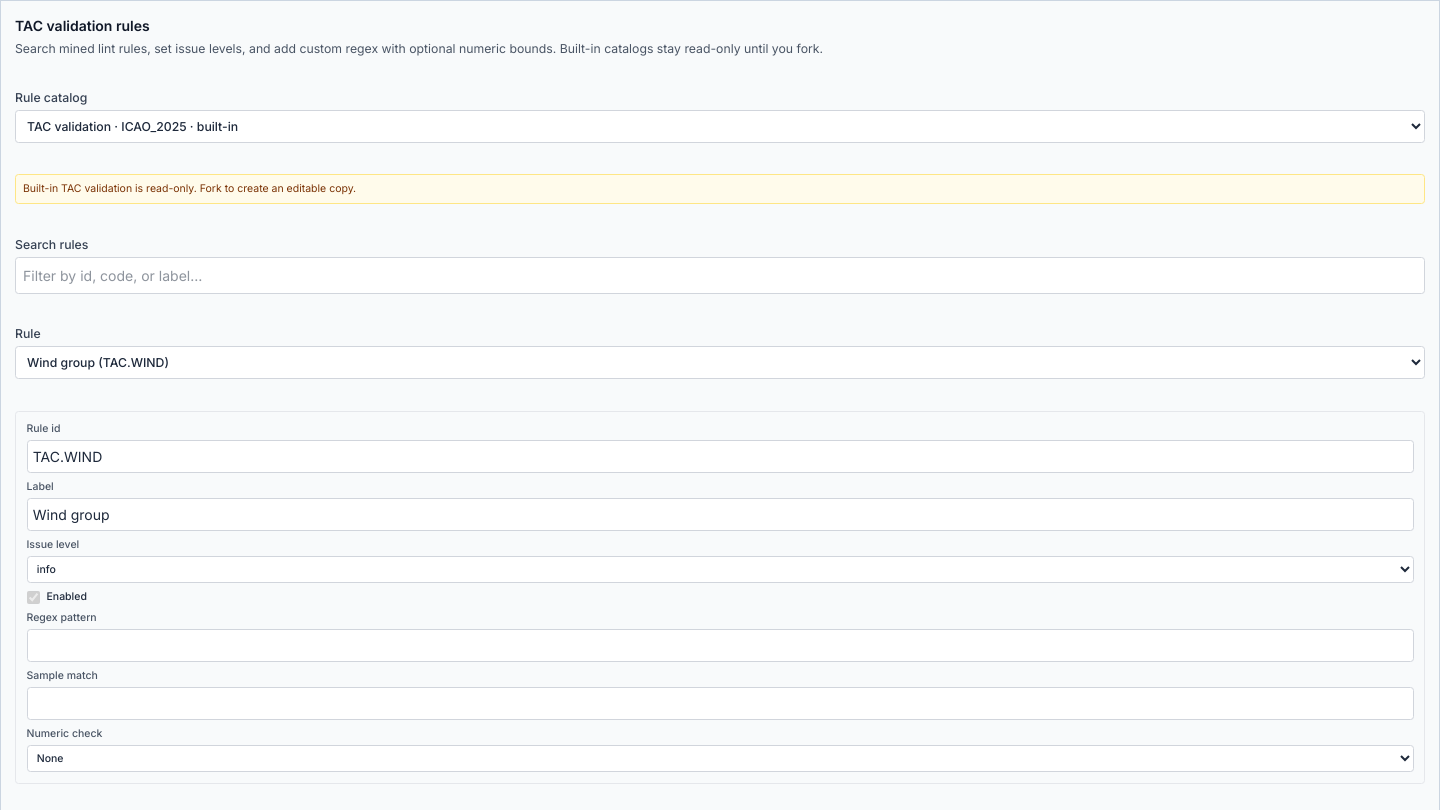
TacValidationRulesPanel › lists searchable TAC rules with clear identity (TC-EVWB-TAC-001)
In the search field with test id "tac-validation-rules-search": point(720, 275) [15, 256, 1425, 294], type "vis"
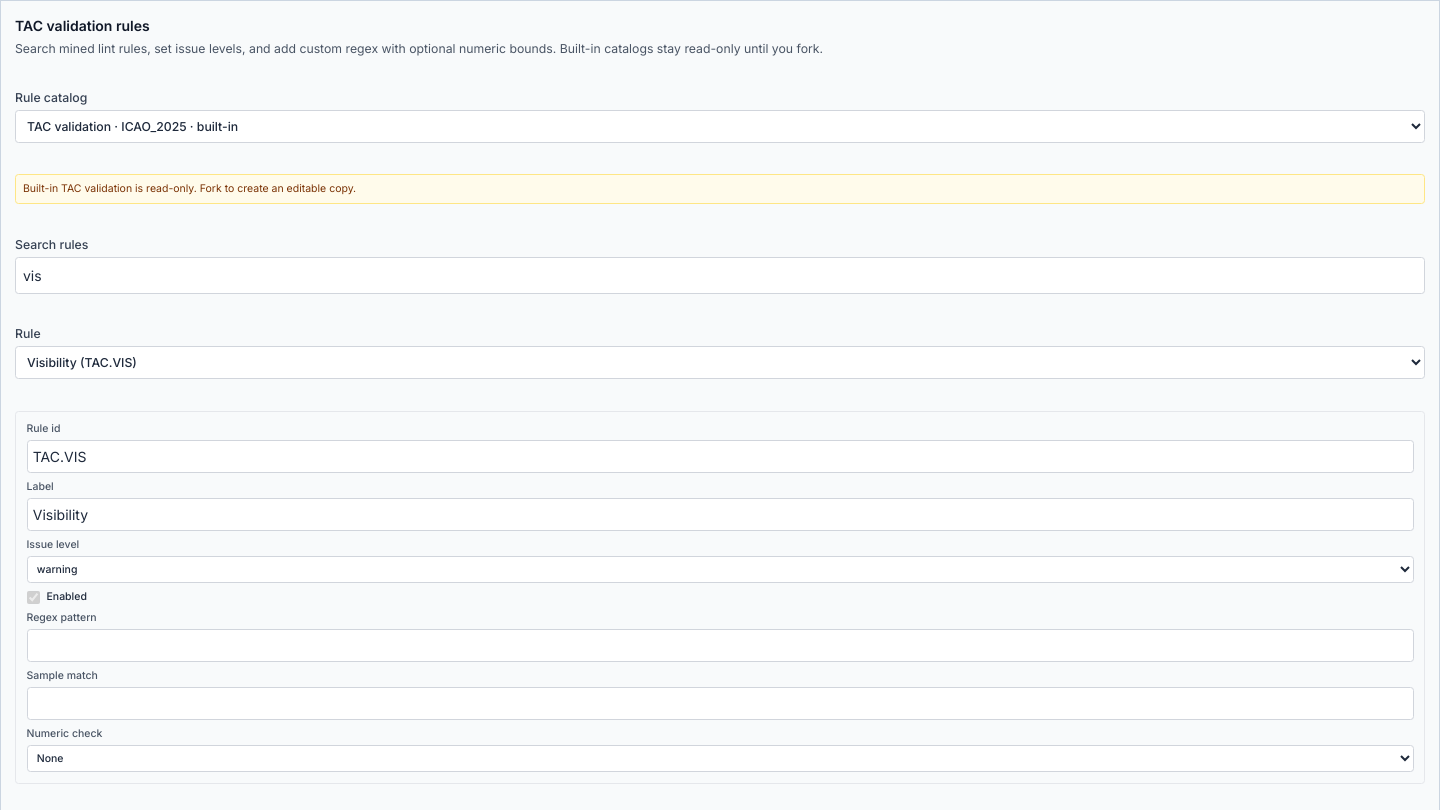
Now the field with test id "tac-validation-rule-id" holds "TAC.VIS", box [26, 440, 1414, 473]
